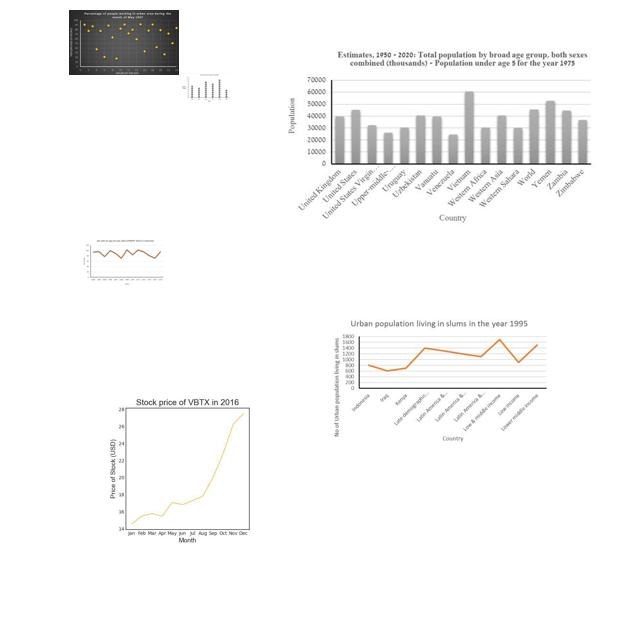Graph: (283, 48, 609, 225), (80, 389, 290, 547), (330, 315, 549, 444), (69, 10, 179, 75), (80, 237, 165, 287), (180, 73, 231, 103)
